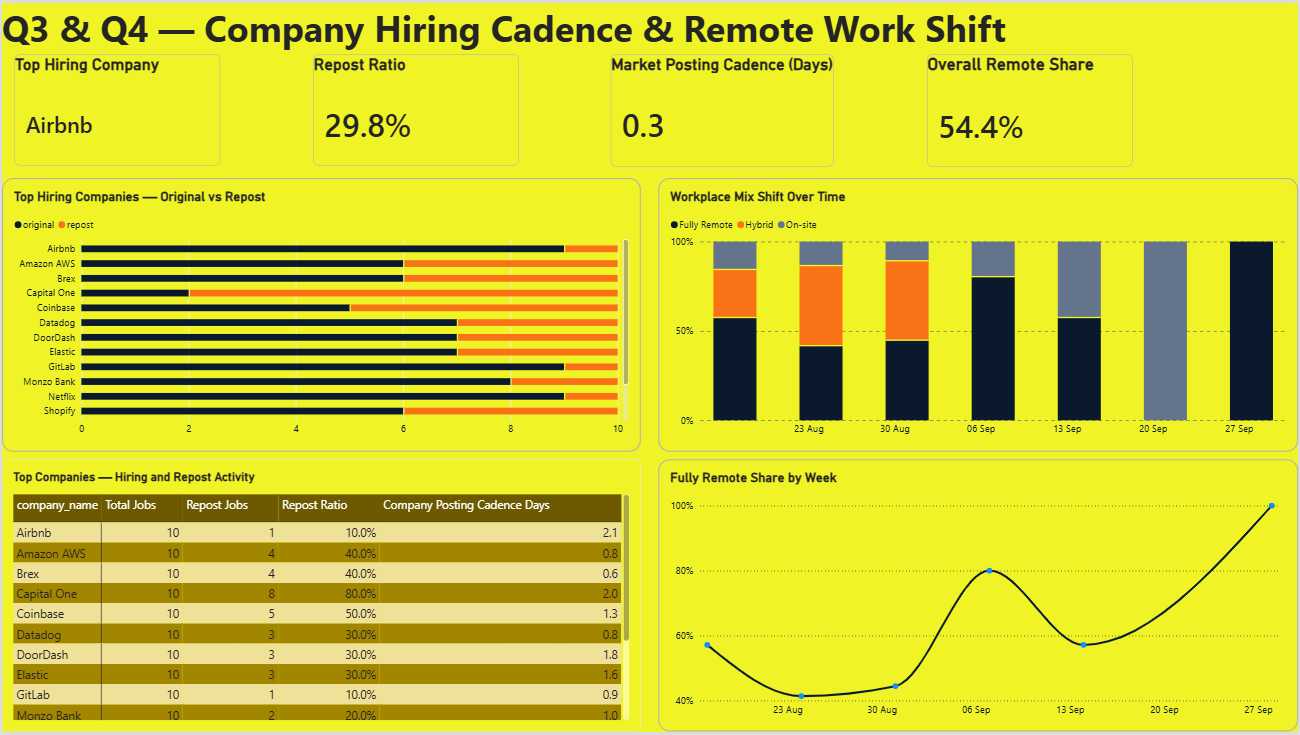

The dashboard page shown, as its layout file describes it:
{"tool":"powerbi","page":{"name":"Company Hiring & Workplace Dynamics","canvas":[1920,1080],"ordinal":3},"visuals":[{"type":"textbox","box":[0,0,1512,76],"z":0},{"type":"cardVisual","title":"Top Hiring Company","fields":{"Data":["Date.Top Hiring Company"]},"box":[18,76,305,165],"z":1},{"type":"cardVisual","title":"Repost Ratio","fields":{"Data":["Date.Repost Ratio"]},"box":[460.3,76,305,165],"z":3},{"type":"cardVisual","title":"Market Posting Cadence (Days)","fields":{"Data":["Date.Company Posting Cadence Days"]},"box":[902.7,76,330,166],"z":4},{"type":"barChart","title":"Top Hiring Companies — Original vs Repost","fields":{"Category":["fact_jobs.company_name"],"Series":["fact_jobs.repost_status"],"Y":["fact_jobs.Total Jobs"]},"box":[0,258.8,946.5,405.4],"z":5},{"type":"hundredPercentStackedColumnChart","title":"Workplace Mix Shift Over Time","fields":{"Category":["Date.Week Start"],"Series":["fact_jobs.remote_type"],"Y":["fact_jobs.Total Jobs"]},"box":[971.8,258.8,948.3,405.4],"z":6},{"type":"pivotTable","title":"Top Companies — Hiring and Repost Activity","fields":{"Rows":["fact_jobs.company_name"],"Values":["fact_jobs.Total Jobs","Date.Repost Jobs","Date.Repost Ratio","Date.Company Posting Cadence Days"]},"box":[0,676.8,946.5,403.6],"z":7},{"type":"lineChart","title":"Fully Remote Share by Week","fields":{"Category":["Date.Week Start"],"Y":["fact_jobs.Remote Ratio"]},"box":[971.8,676.8,948.3,403.6],"z":8},{"type":"cardVisual","title":"Overall Remote Share","fields":{"Data":["fact_jobs.Remote Ratio"]},"box":[1370,76,305,166],"z":9}]}

Visuals, with their boxes in screenshot pixels (x1, y1, x2, y2), scaled from the page's 1920x1080 canvas onto the 1300x735 screenshot:
textbox: locate(0, 0, 1024, 52)
"Top Hiring Company" cardVisual: locate(12, 52, 219, 164)
"Repost Ratio" cardVisual: locate(312, 52, 518, 164)
"Market Posting Cadence (Days)" cardVisual: locate(611, 52, 835, 165)
"Top Hiring Companies — Original vs Repost" barChart: locate(0, 176, 641, 452)
"Workplace Mix Shift Over Time" hundredPercentStackedColumnChart: locate(658, 176, 1299, 452)
"Top Companies — Hiring and Repost Activity" pivotTable: locate(0, 461, 641, 734)
"Fully Remote Share by Week" lineChart: locate(658, 461, 1299, 734)
"Overall Remote Share" cardVisual: locate(928, 52, 1134, 165)
